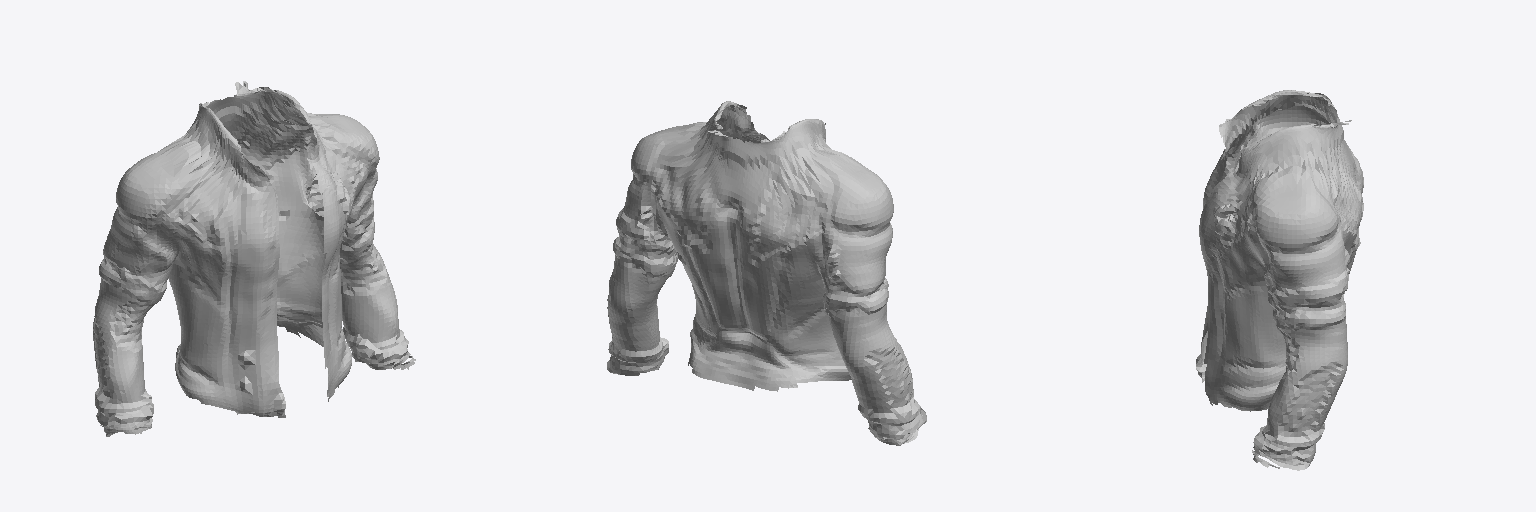
File: Jacket.OBJ
The picture shows the model from 3 angles: view 1: azimuth 30°, elevation 25°; view 2: azimuth 150°, elevation 25°; view 3: azimuth 270°, elevation 25°; orthographic projection.
Parts seen in each view (by area): view 1: Group32424, Group20423, Group32536; view 2: Group32424, Group20423, Group32536; view 3: Group20423, Group32424, Group32536.
Part boxes in pixels (x1,y1,x2,y2): Group32424: (142,94,363,417); Group20423: (93,114,410,436); Group32536: (143,81,352,176); Group32424: (656,126,876,391); Group20423: (607,125,923,445); Group32536: (657,101,864,193); Group20423: (1247,105,1349,470); Group32424: (1196,113,1363,411); Group32536: (1219,90,1351,197).
Size of the model in its own units: 3.01 by 2.76 by 1.42.